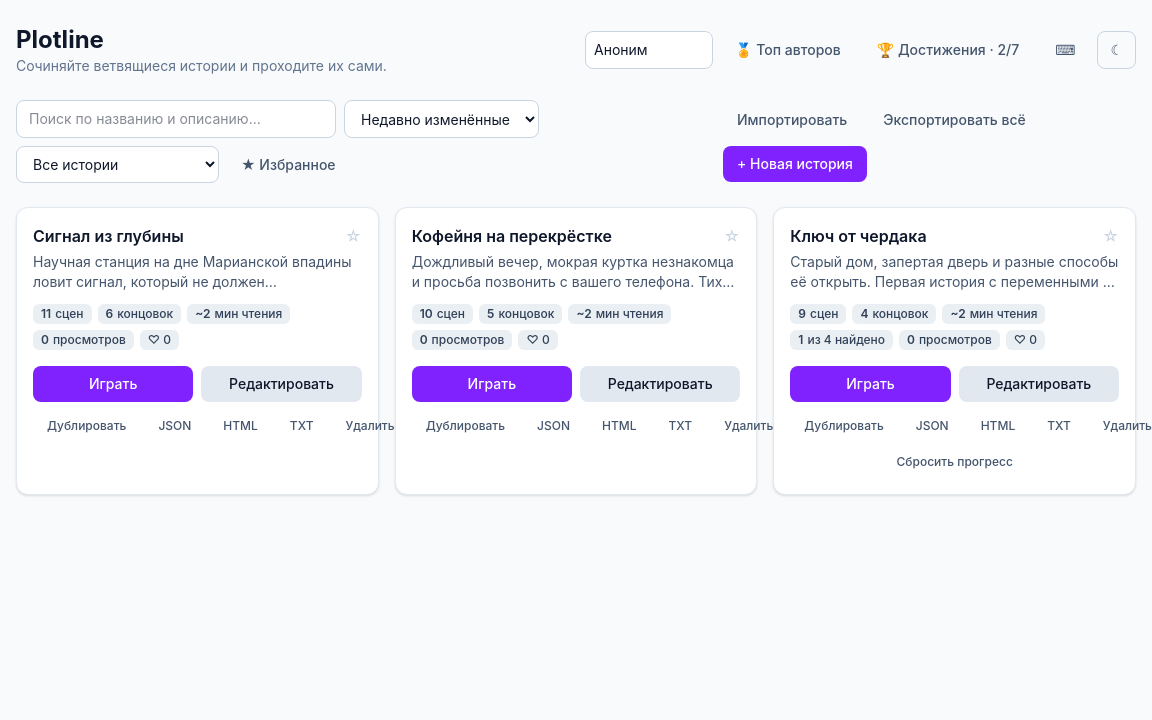
Test: LibraryScreen › resets a story's progress via the confirm dialog once it has been played
This screenshot has width=1152, height=720.
Click the button "Сбросить прогресс".
click(955, 462)  # box [790,446,1119,478]
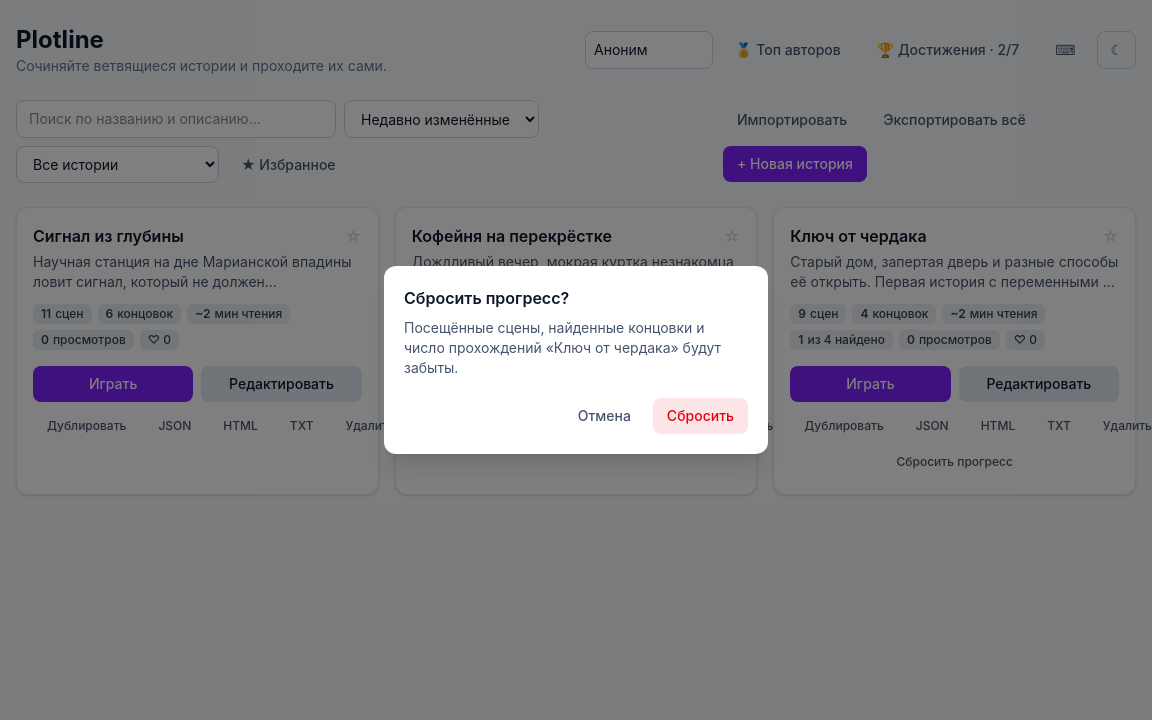
Expected: the heading "Сбросить прогресс?" is shown, [404,288,569,308]
Click the button "Сбросить".
click(700, 416)  # box [653,398,748,434]
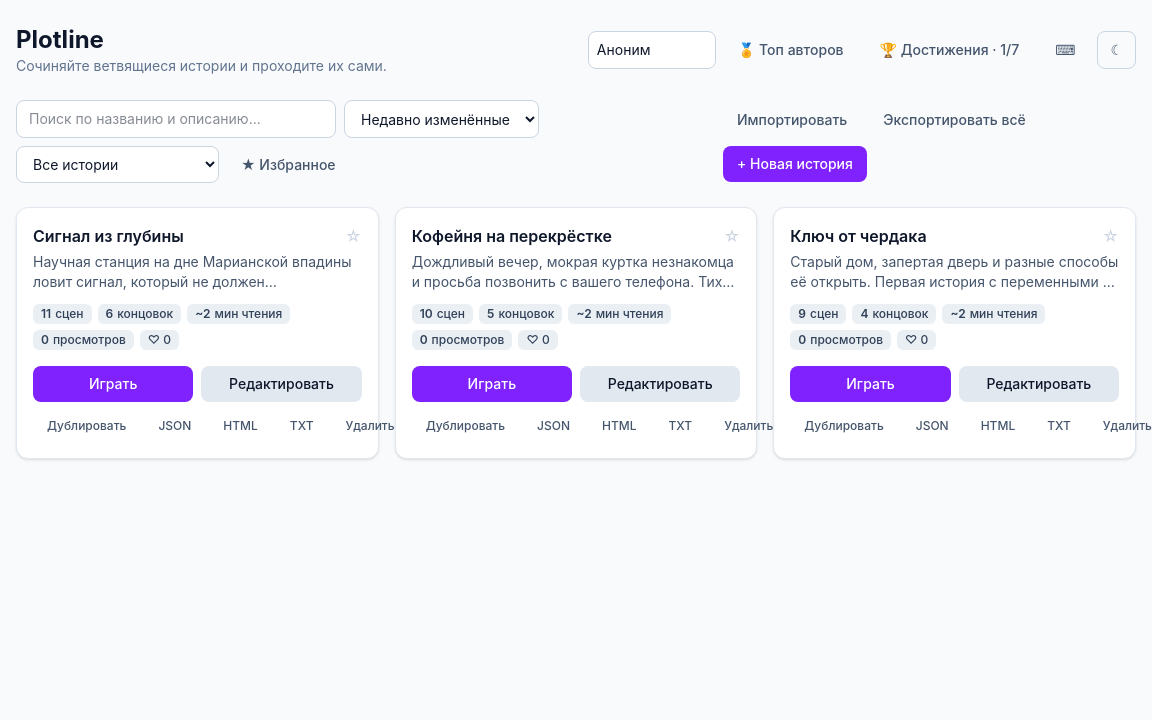
Expected: the button "Сбросить прогресс?" is gone
